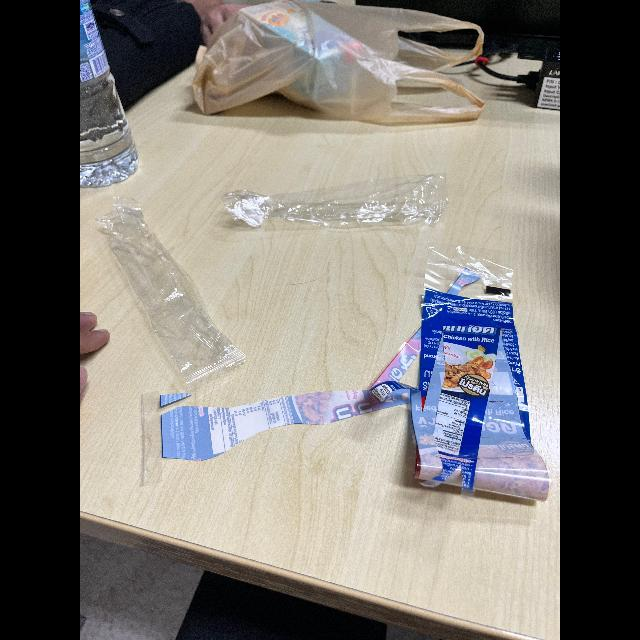scrap_plastic: (372, 254, 560, 512), (89, 210, 244, 378), (204, 180, 454, 238)
